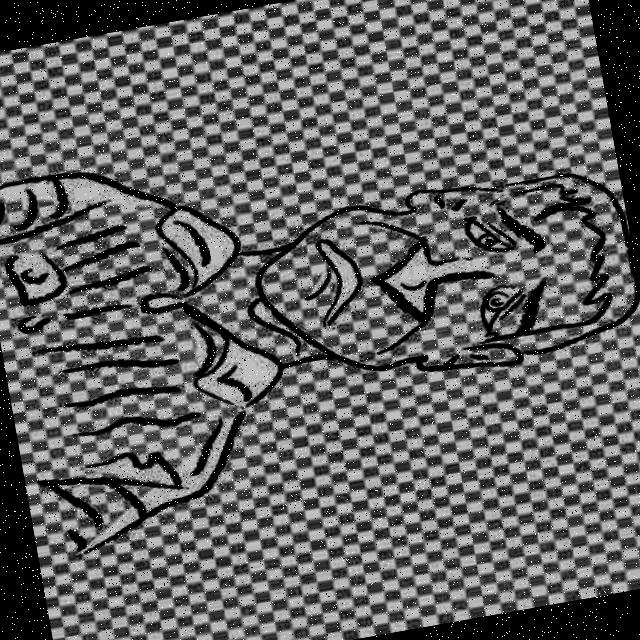sad: (238, 152, 640, 421)
